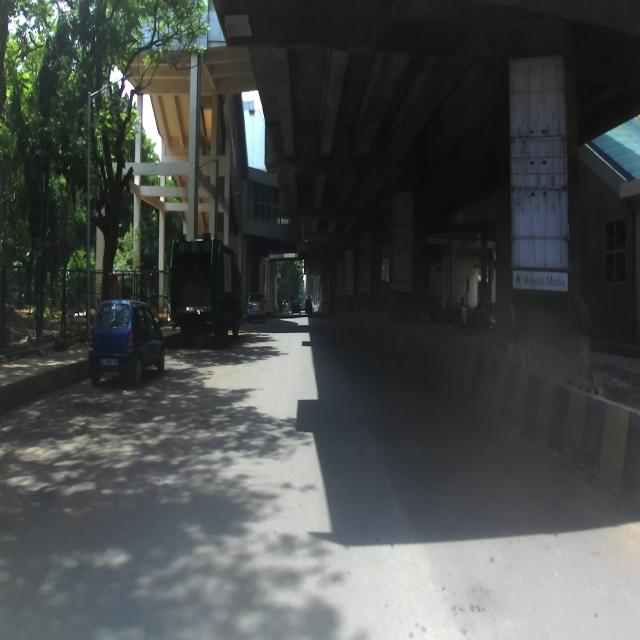Car_Maruti-Suzuki: (88, 299, 165, 386)
